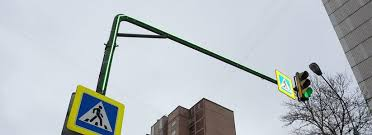tl: (293, 70, 312, 101)
